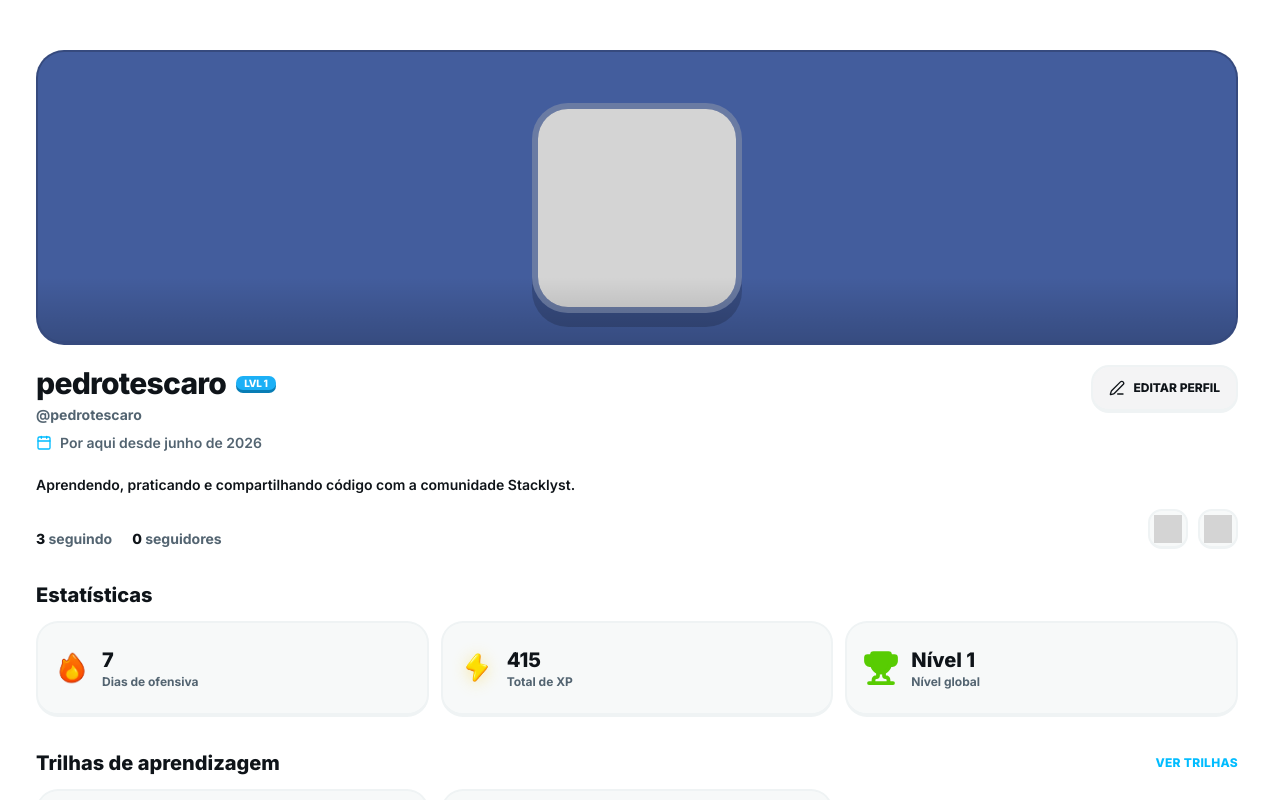
it: ProfileHero › mostra logos apenas das trilhas que o perfil iniciou
The width and height of the screenshot is (1280, 800).
Expected: the element named "Linguagens das trilhas iniciadas" is shown, x1=1148 y1=509 x2=1238 y2=549
Expected: the picture named "JavaScript, nível 1" is shown, x1=1148 y1=509 x2=1188 y2=549
Click the button with aria-label "Abrir detalhes da ofensiva: 7 dias" at {"x": 72, "y": 668}, box x1=36 y1=621 x2=429 y2=717
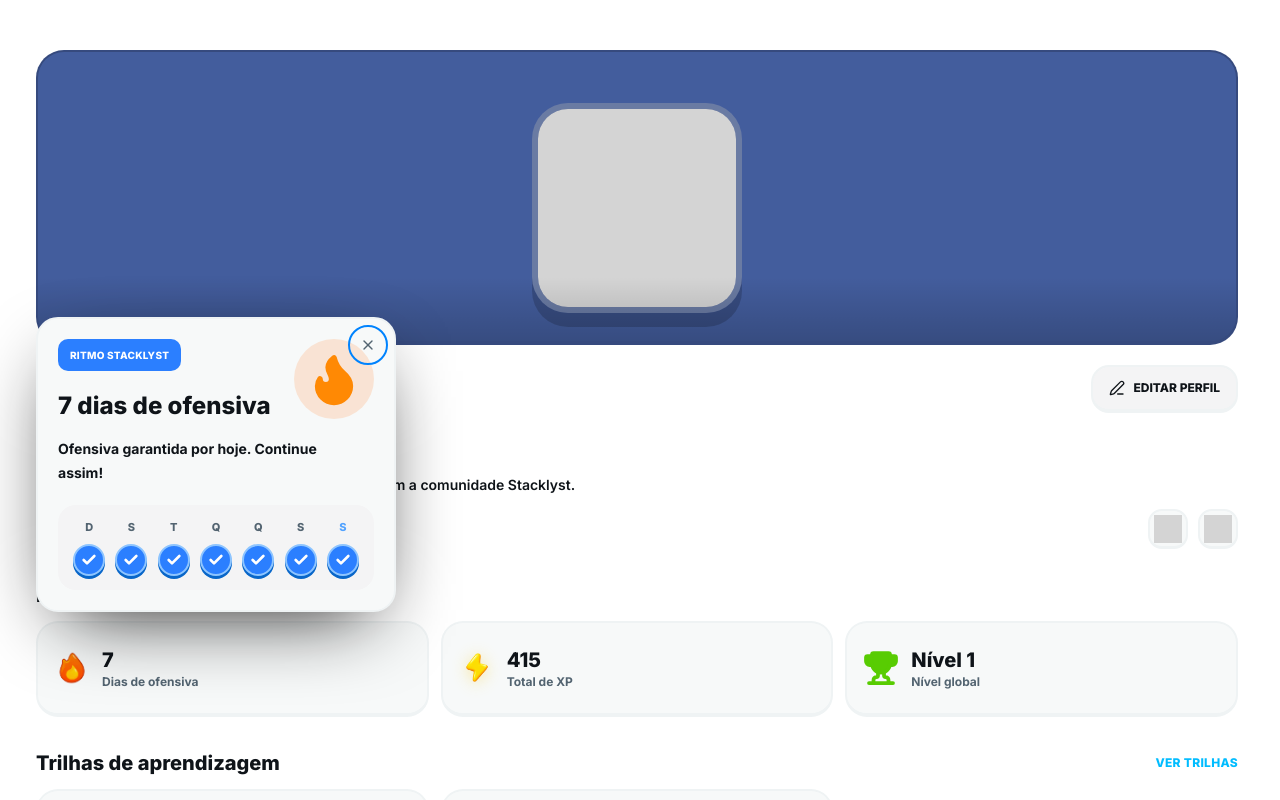
Now the heading "7 dias de ofensiva" is shown, box x1=58 y1=391 x2=271 y2=421
